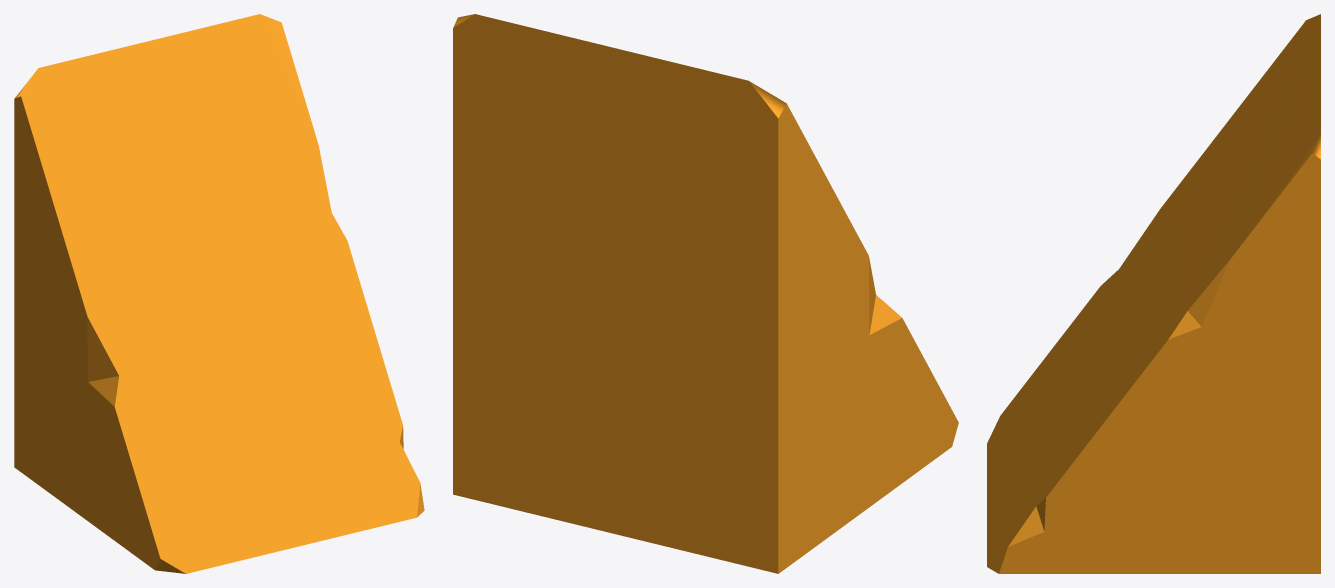
Rendered from SM_Buildings_Ramp_55_1x1_01P.fbx.
The picture shows the model from 3 angles, left to right: view 1: azimuth 30°, elevation 25°; view 2: azimuth 150°, elevation 25°; view 3: azimuth 270°, elevation 25°; orthographic projection. The views are drawn at different scales.
Visible parts, largest first — view 1: SM_Buildings_Ramp_55_1x1_01P; view 2: SM_Buildings_Ramp_55_1x1_01P; view 3: SM_Buildings_Ramp_55_1x1_01P.
Part boxes in pixels (x1,y1,x2,y2): SM_Buildings_Ramp_55_1x1_01P: [14, 14, 424, 573]; SM_Buildings_Ramp_55_1x1_01P: [453, 14, 958, 573]; SM_Buildings_Ramp_55_1x1_01P: [987, 14, 1320, 573].
Bounding box in the file's own units: 100 × 143 × 100.
